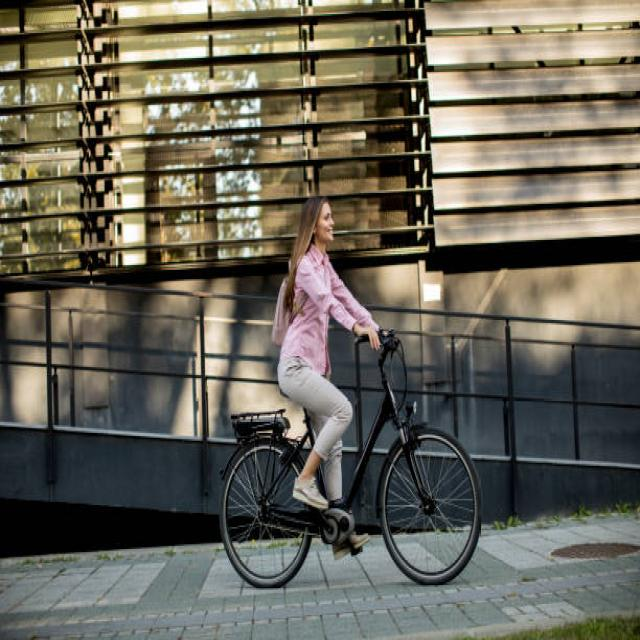bicycle: (220, 197, 481, 587)
